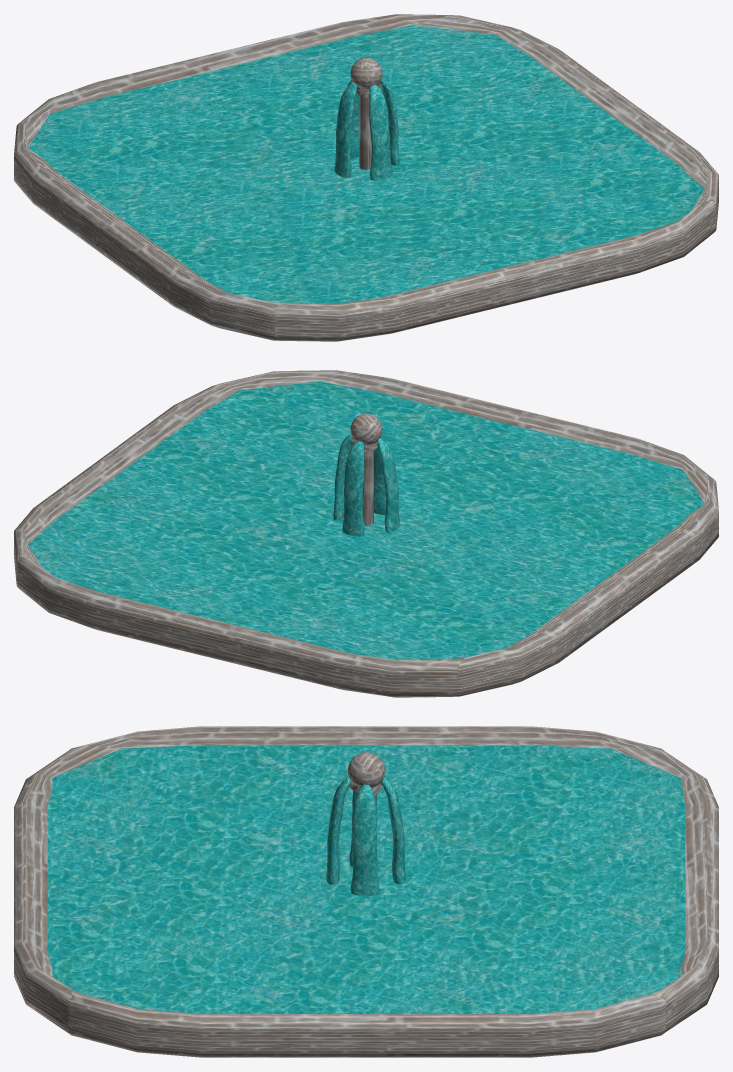
The picture shows the model from 3 angles, top to bottom: view 1: azimuth 30°, elevation 25°; view 2: azimuth 150°, elevation 25°; view 3: azimuth 270°, elevation 25°; orthographic projection. The views are drawn at different scales.
Visible parts, largest first — view 1: Mball.001, Mball.008, Mball.000, Cylinder, Sphere, Mball.007; view 2: Mball.001, Mball.006, Mball.000, Cylinder, Mball.007, Sphere, Mball.008; view 3: Mball.001, Mball.007, Mball.008, Mball.006, Sphere.
Boxes of the visible parts, x1,y1,x2,y2 form: Mball.001: (14,14,718,341); Mball.008: (369,84,392,180); Mball.000: (334,82,356,177); Cylinder: (351,82,382,169); Sphere: (350,57,382,89); Mball.007: (380,78,399,165); Mball.001: (14,370,718,697); Mball.006: (342,441,364,536); Mball.000: (377,437,399,532); Cylinder: (350,438,377,525); Mball.007: (333,434,352,520); Sphere: (350,413,382,445); Mball.008: (374,435,385,514); Mball.001: (14,726,718,1057); Mball.007: (351,784,379,895); Mball.008: (326,777,351,884); Mball.006: (381,777,405,884); Sphere: (348,752,384,787).
Bounding box in the file's own units: 11.31 × 3.04 × 11.31.
Materials: 2 (2 with a texture image).
